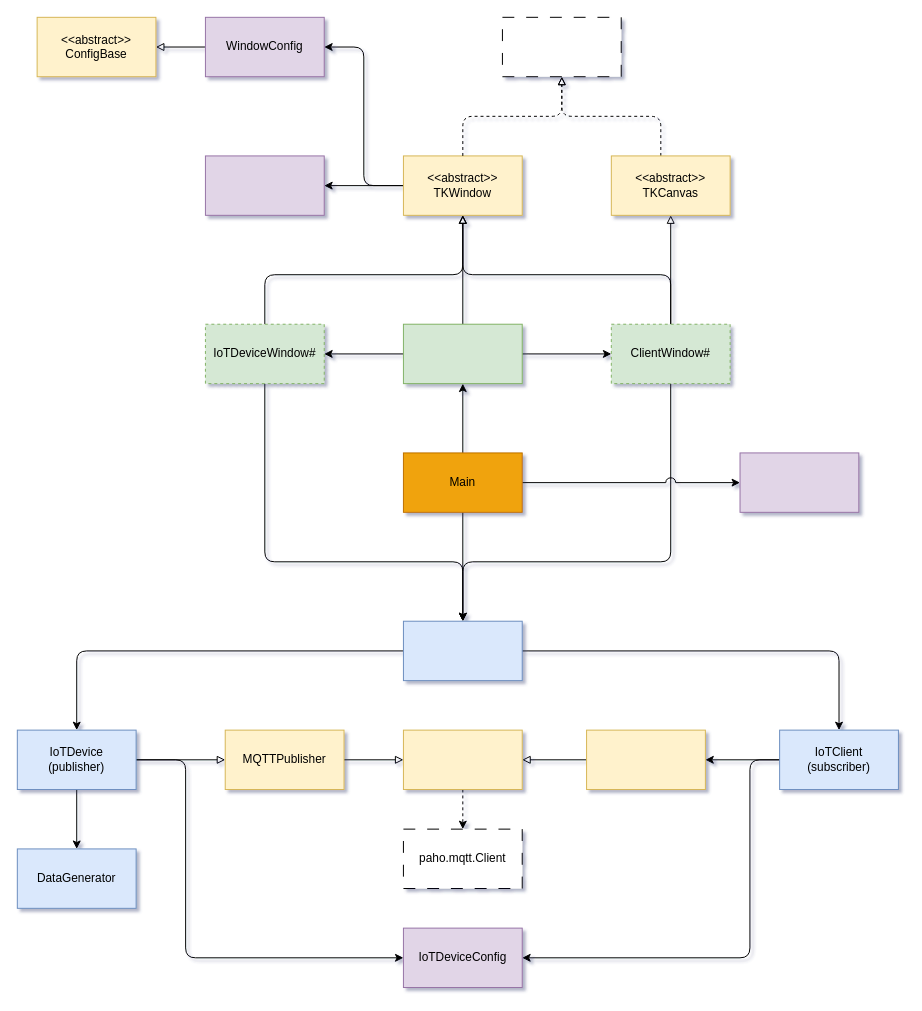
The diagram is 922 pixels wide and 1011 high, and some of its shapes have lost their labels. Each missing label, with the centre of its shape:
"<<dataclass>> MainConfig" belongs at (799,482).
"<<dataclass>> ThemeConfig" belongs at (264,185).
"IoTController" belongs at (462,650).
"MainGUI" belongs at (462,353).
"MQTTClient" belongs at (462,759).
"MQTTSubscriber" belongs at (645,759).
"tkinter" belongs at (561,46).
